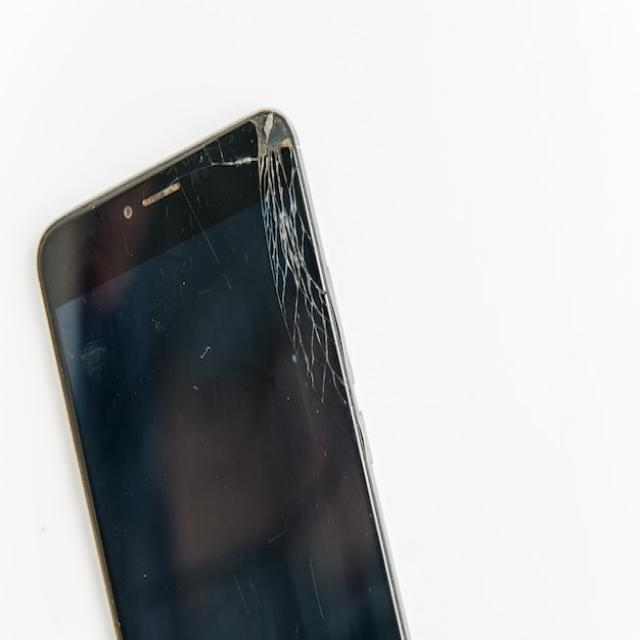Crack: (242, 116, 358, 423)
Scratches: (158, 171, 239, 362), (215, 558, 274, 628), (296, 543, 343, 628), (265, 510, 292, 555)
